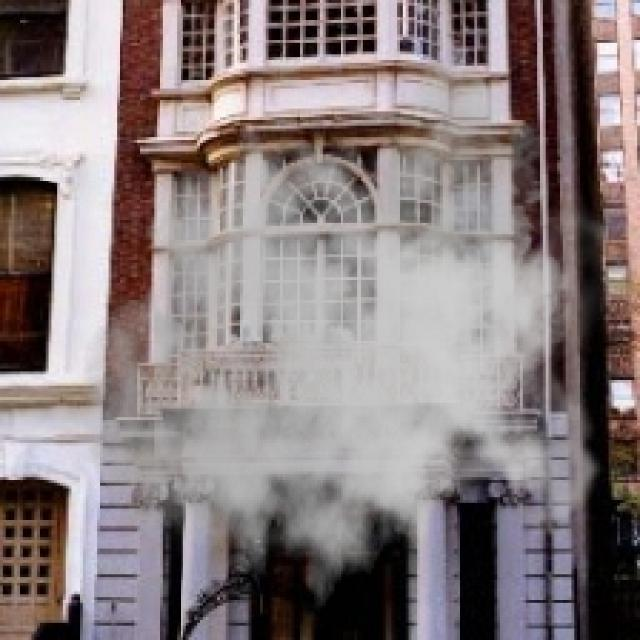Smoke: (80, 63, 609, 632)
